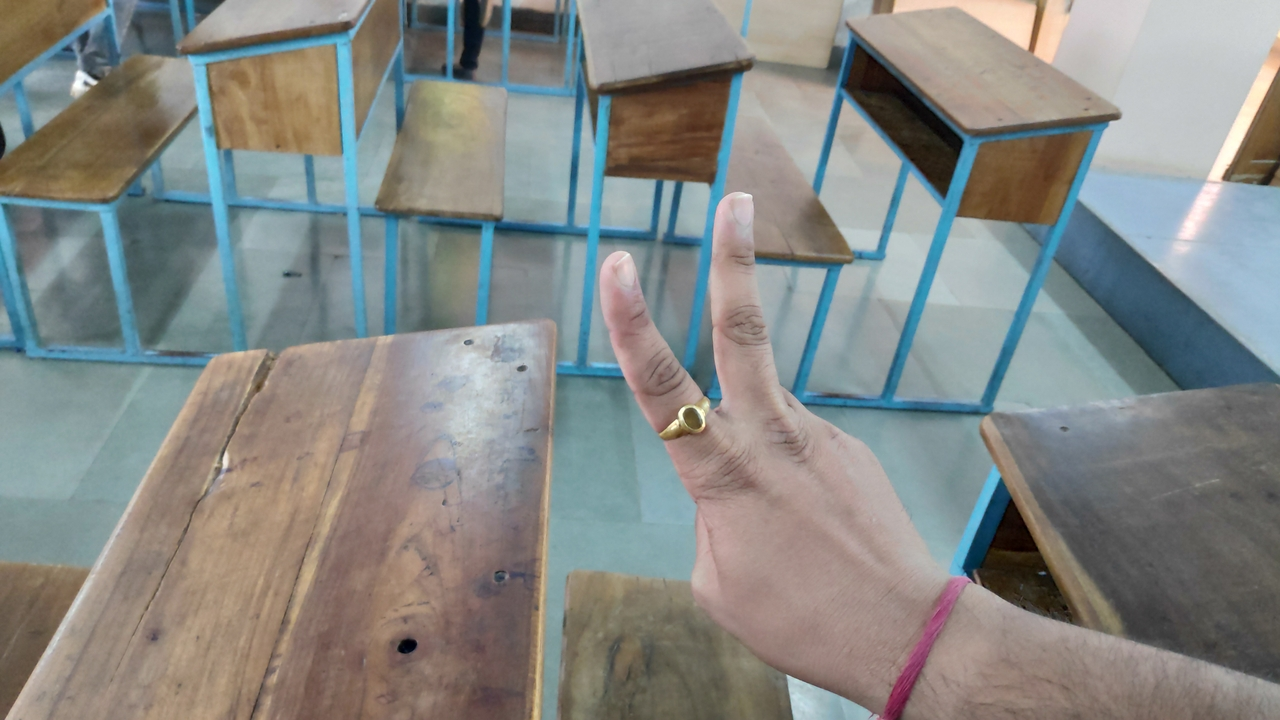fingertip: (588, 240, 650, 310), (710, 186, 760, 240)
